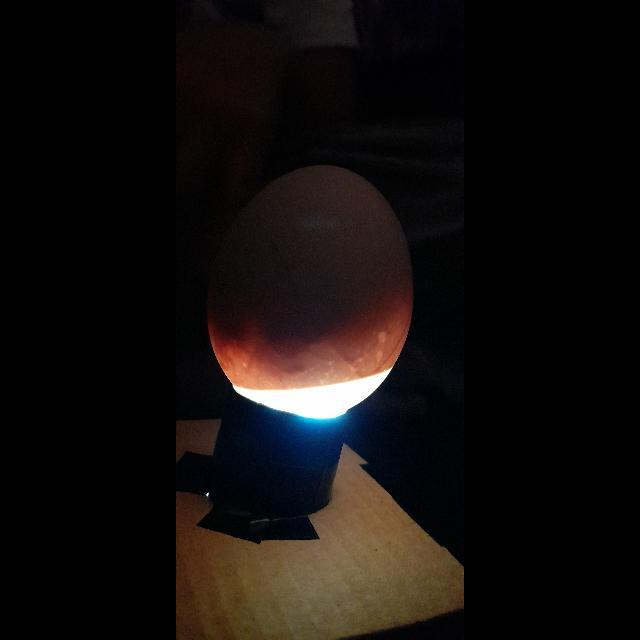Fertile: (205, 138, 412, 418)
